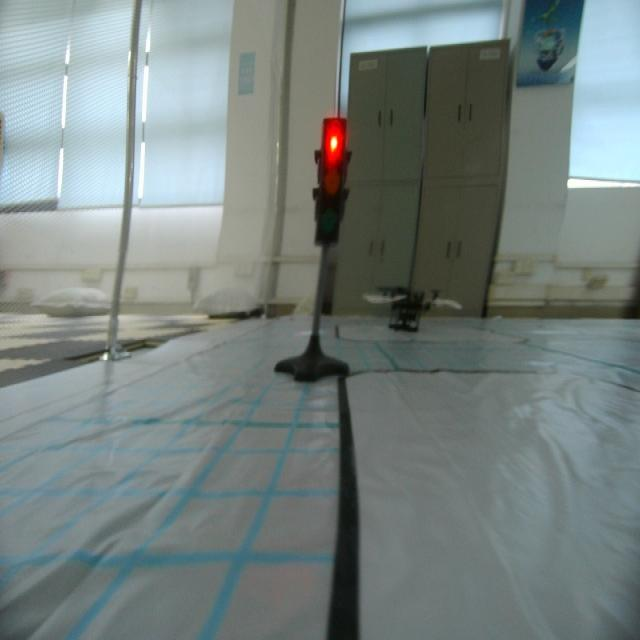red: (310, 108, 351, 248)
